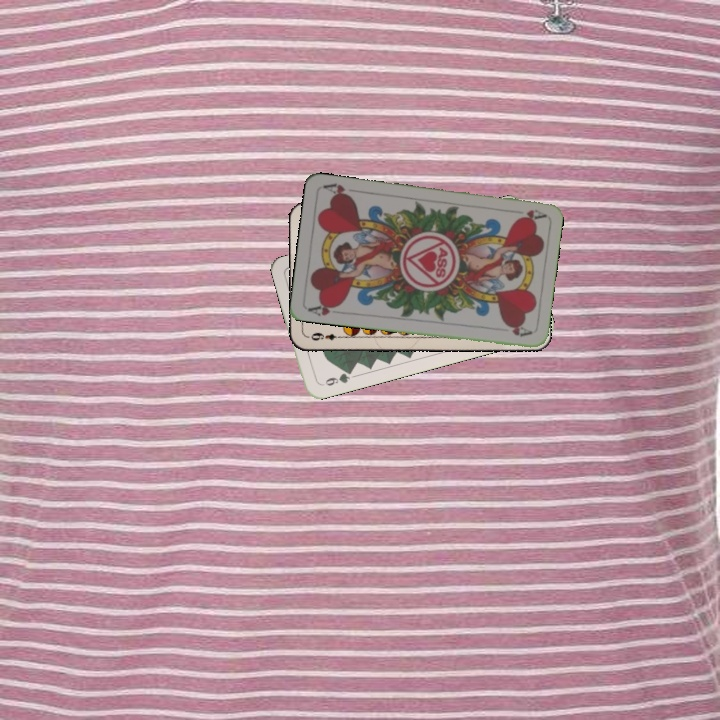E9: (305, 329, 345, 343)
G9: (317, 366, 355, 388)
HA: (304, 298, 345, 318), (514, 205, 547, 223)
